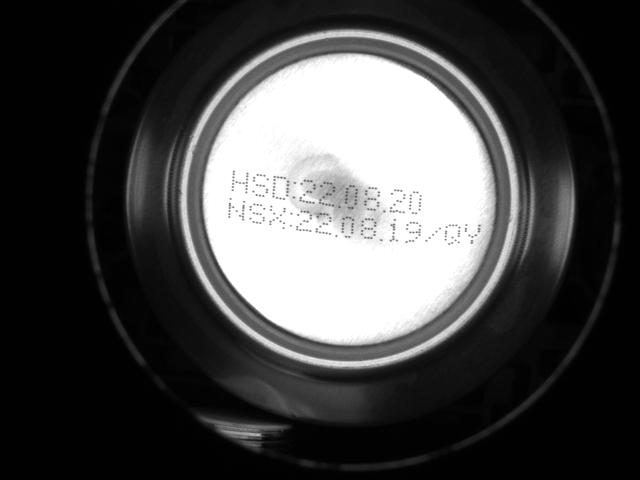.: (336, 195, 343, 209), (332, 224, 339, 238), (381, 201, 388, 215), (377, 230, 384, 244)
/: (422, 223, 442, 246)
0: (344, 182, 360, 211), (340, 211, 356, 240), (406, 188, 422, 217)
1: (386, 217, 401, 242)
2: (298, 177, 315, 204), (318, 180, 335, 207), (295, 208, 312, 235), (314, 210, 331, 237), (389, 186, 406, 213)
8: (362, 183, 383, 212), (357, 214, 378, 243)
9: (404, 219, 421, 245)
:: (291, 179, 298, 201), (288, 208, 295, 230)
D: (269, 172, 290, 202)
H: (227, 167, 250, 197)
N: (225, 194, 246, 223)
Q: (443, 221, 463, 248)
S: (251, 172, 271, 200), (247, 199, 267, 227)
X: (268, 203, 288, 232)
Y: (463, 219, 482, 250)
